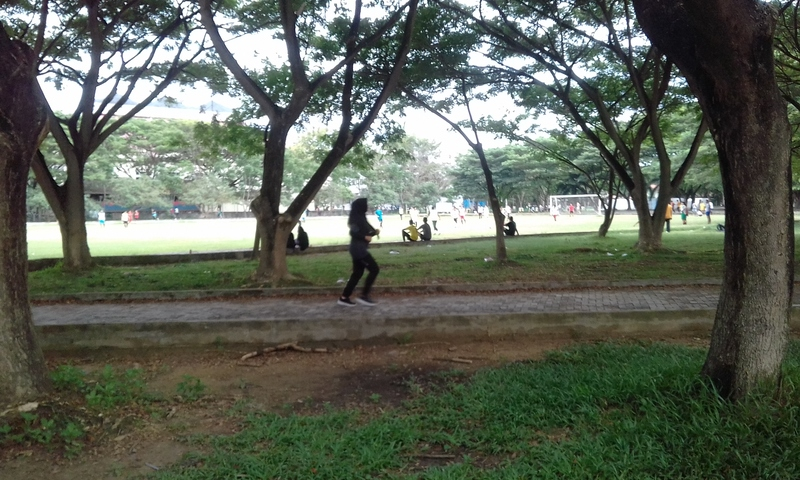person: (336, 192, 383, 313)
